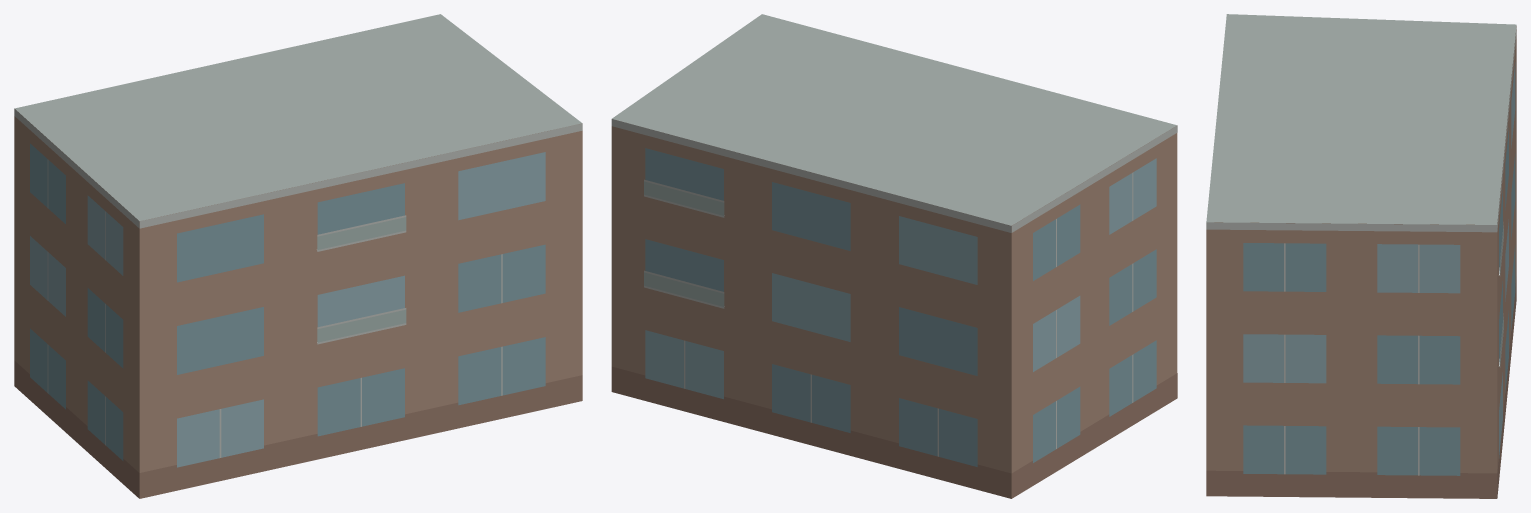
File: survey-upis-32603577.glb
The picture shows the model from 3 angles, left to right: view 1: azimuth 30°, elevation 25°; view 2: azimuth 150°, elevation 25°; view 3: azimuth 270°, elevation 25°; orthographic projection.
Visible parts, largest first — view 1: survey-upis-32603577.tmp; view 2: survey-upis-32603577.tmp; view 3: survey-upis-32603577.tmp.
Part boxes in pixels (left/top/right/bottom): survey-upis-32603577.tmp: left=14, top=14, right=582, bottom=498; survey-upis-32603577.tmp: left=611, top=14, right=1177, bottom=498; survey-upis-32603577.tmp: left=1206, top=14, right=1516, bottom=498.
Size of the model in its own units: 15.13 by 9.15 by 9.41.
